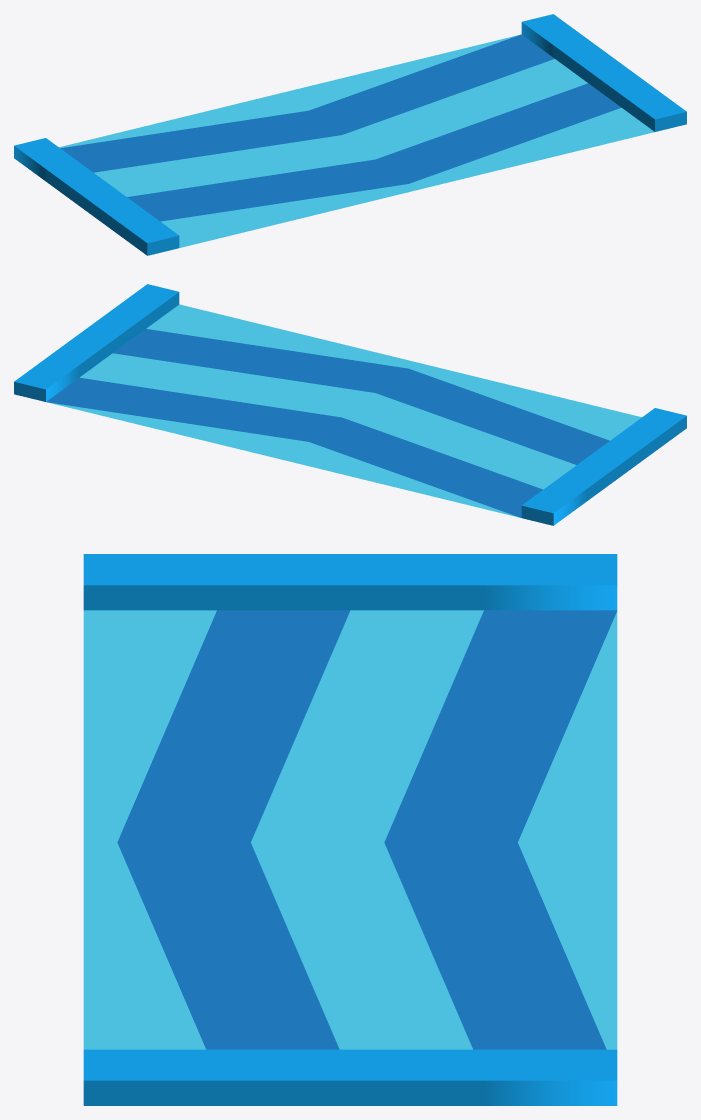
The model's file is Entry_Plane4.fbx.
The picture shows the model from 3 angles, top to bottom: view 1: azimuth 30°, elevation 25°; view 2: azimuth 150°, elevation 25°; view 3: azimuth 270°, elevation 25°; orthographic projection. The views are drawn at different scales.
Visible parts, largest first — view 1: Entry_Plane; view 2: Entry_Plane; view 3: Entry_Plane.
Boxes of the visible parts, <box> form: Entry_Plane: <box>14,14,686,255</box>; Entry_Plane: <box>14,284,686,525</box>; Entry_Plane: <box>83,554,617,1105</box>.
Size of the model in its own units: 420 by 9.36 by 180.
